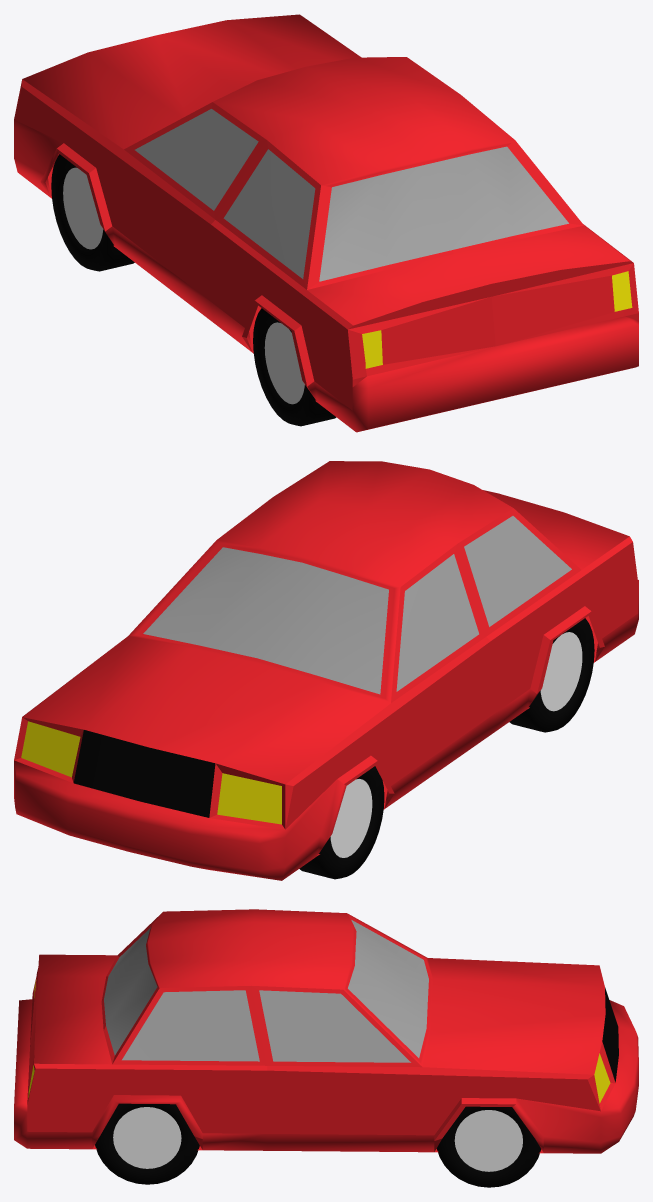
Rendered from masina.obj.
3 views of the same model, one above another, from view 1: azimuth 30°, elevation 25°; view 2: azimuth 150°, elevation 25°; view 3: azimuth 270°, elevation 25° (orthographic). The views are drawn at different scales.
Visible parts, largest first — view 1: Car_Cube; view 2: Car_Cube; view 3: Car_Cube.
Boxes of the visible parts, x1,y1,x2,y2 form: Car_Cube: [14, 14, 638, 432]; Car_Cube: [14, 461, 638, 880]; Car_Cube: [14, 909, 638, 1187].
Size of the model in its own units: 0.5752 by 0.4218 by 1.24.
Materials: 1 (1 with a texture image).
